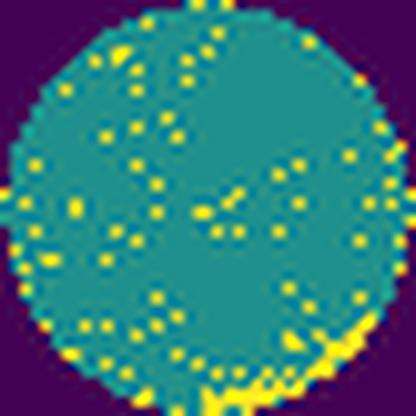Edge-Loc: (195, 313, 380, 415)
